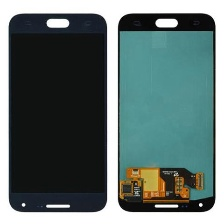phone: (6, 11, 113, 217), (116, 9, 217, 215)
